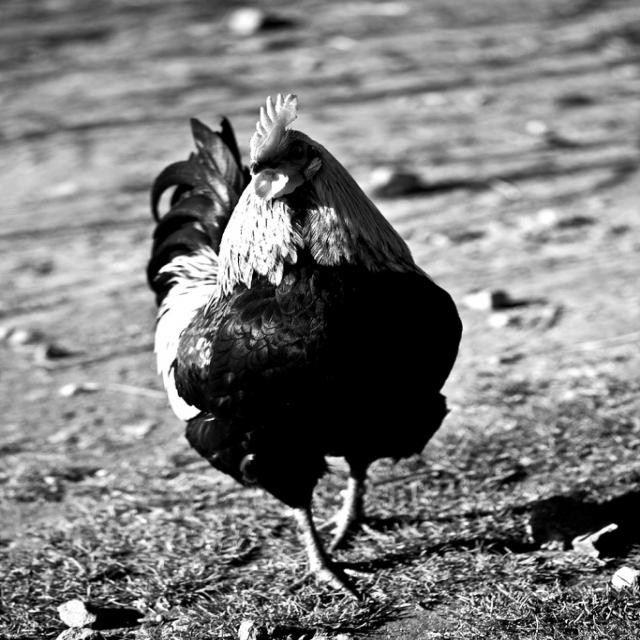Chicken: (151, 86, 456, 601)
